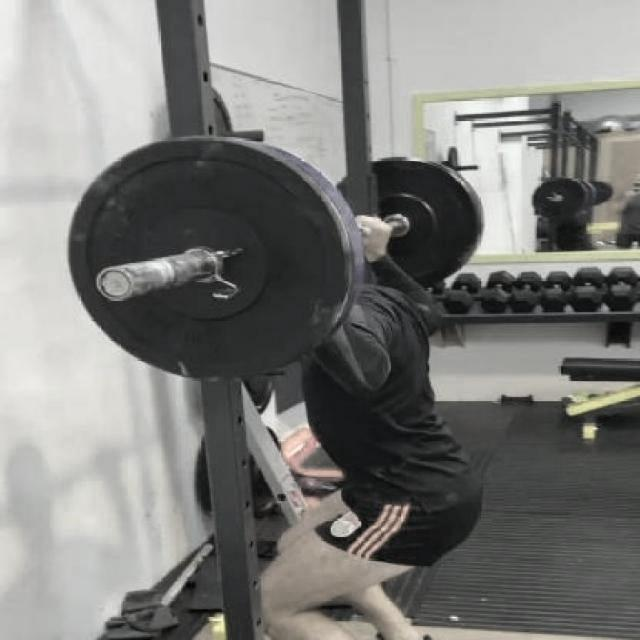barbell: (64, 135, 350, 385)
